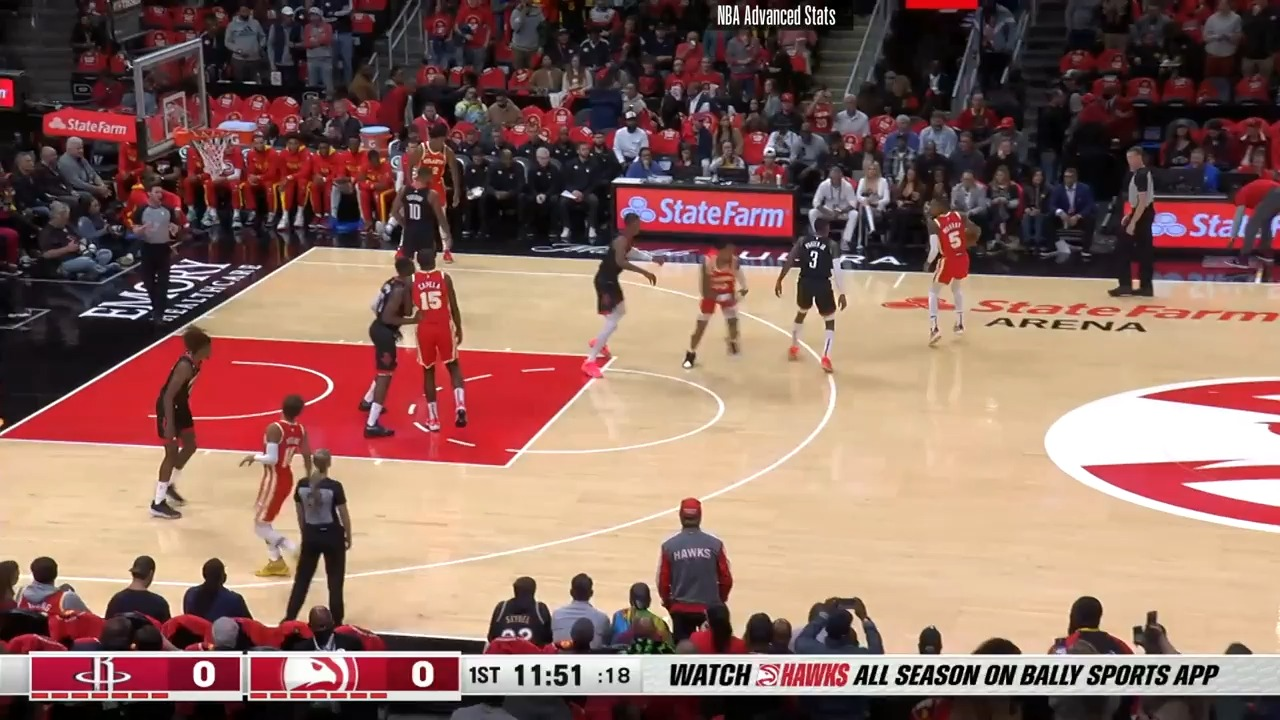net: (172, 121, 244, 179)
player: (236, 391, 321, 579), (146, 323, 223, 521), (398, 244, 468, 439), (581, 211, 656, 388), (354, 248, 422, 441), (769, 215, 850, 371), (682, 240, 754, 373), (921, 194, 982, 346), (407, 122, 462, 265), (393, 162, 449, 280)
referee: (278, 449, 354, 635), (130, 180, 185, 324), (1108, 144, 1155, 305)
